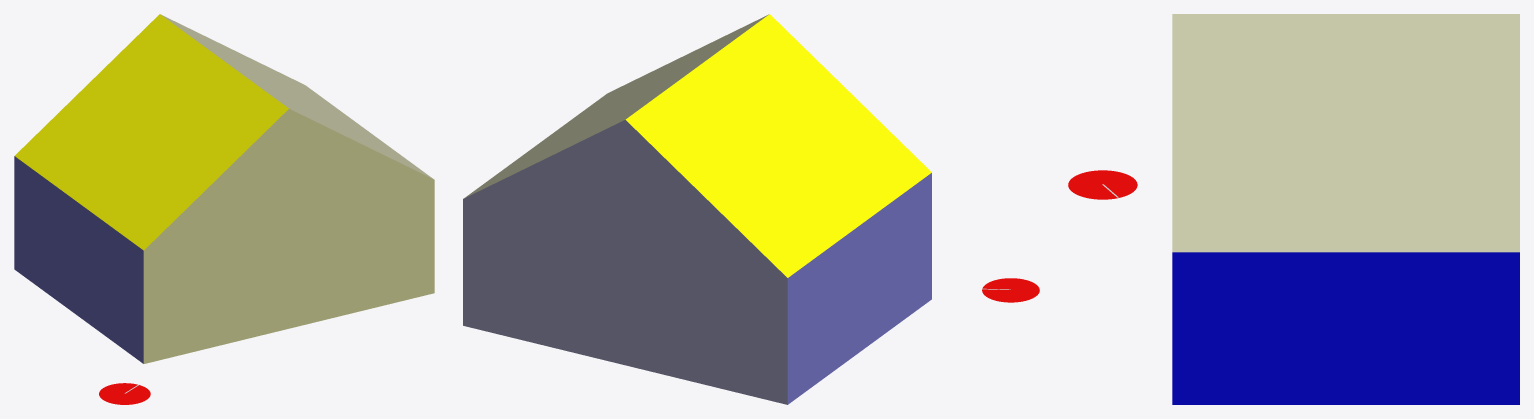
Rendered from result.glb.
3 renders of one model, left to right at view 1: azimuth 30°, elevation 25°; view 2: azimuth 150°, elevation 25°; view 3: azimuth 270°, elevation 25°, orthographic. The views are drawn at different scales.
Parts seen in each view (by area): view 1: cd8d037e-d1f9-44b0-9997-3bc7da82663d__undefined, 86cc8c25-17e1-4301-9e9a-4841d5da902a__undefined, dc66ec04-778f-4a4e-88cb-9db9ff72b7c8__undefined, 42c07464-64b5-4e6c-aecb-a8e5919f3f17__undefined, 65186611-d7c7-416a-9514-3056d5def254__Circle; view 2: 73d4226f-5e45-436b-8988-4fca49710675__undefined, 86cc8c25-17e1-4301-9e9a-4841d5da902a__undefined, dc66ec04-778f-4a4e-88cb-9db9ff72b7c8__undefined, 42c07464-64b5-4e6c-aecb-a8e5919f3f17__undefined, 65186611-d7c7-416a-9514-3056d5def254__Circle; view 3: 42c07464-64b5-4e6c-aecb-a8e5919f3f17__undefined, ecd438ee-5862-4b04-aa11-71200603fcd2__undefined, 65186611-d7c7-416a-9514-3056d5def254__Circle.
Part boxes in pixels (x1,y1,x2,y2): cd8d037e-d1f9-44b0-9997-3bc7da82663d__undefined: (143, 108, 434, 363); 86cc8c25-17e1-4301-9e9a-4841d5da902a__undefined: (15, 14, 288, 250); dc66ec04-778f-4a4e-88cb-9db9ff72b7c8__undefined: (14, 156, 143, 363); 42c07464-64b5-4e6c-aecb-a8e5919f3f17__undefined: (160, 14, 432, 178); 65186611-d7c7-416a-9514-3056d5def254__Circle: (99, 383, 150, 404); 73d4226f-5e45-436b-8988-4fca49710675__undefined: (463, 119, 787, 404); 86cc8c25-17e1-4301-9e9a-4841d5da902a__undefined: (625, 14, 931, 277); dc66ec04-778f-4a4e-88cb-9db9ff72b7c8__undefined: (787, 173, 931, 404); 42c07464-64b5-4e6c-aecb-a8e5919f3f17__undefined: (464, 14, 768, 198); 65186611-d7c7-416a-9514-3056d5def254__Circle: (982, 278, 1039, 302); 42c07464-64b5-4e6c-aecb-a8e5919f3f17__undefined: (1172, 14, 1519, 252); ecd438ee-5862-4b04-aa11-71200603fcd2__undefined: (1172, 252, 1519, 404); 65186611-d7c7-416a-9514-3056d5def254__Circle: (1068, 170, 1137, 199).
Bounding box in the file's own units: 799 × 469 × 650.
